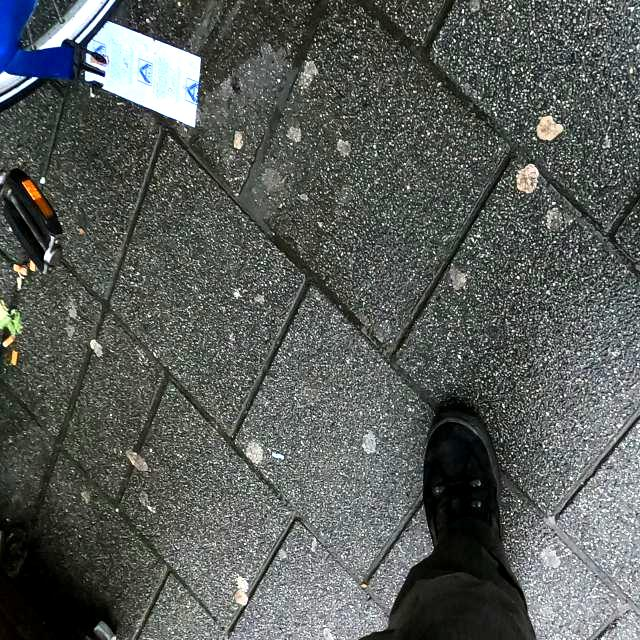Paper: (83, 19, 203, 130)
